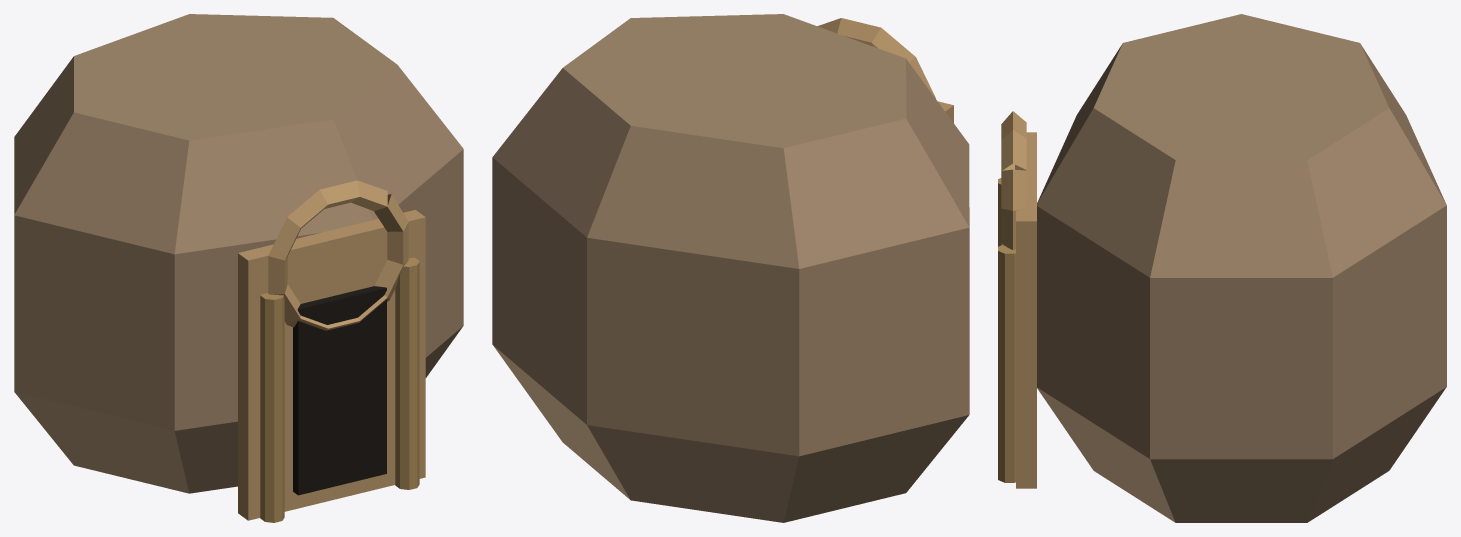
Rendered from cat_house_b.glb.
3 renders of one model, left to right at view 1: azimuth 30°, elevation 25°; view 2: azimuth 150°, elevation 25°; view 3: azimuth 270°, elevation 25°, orthographic. The views are drawn at different scales.
Parts seen in each view (by area): view 1: cat_house_b; view 2: cat_house_b; view 3: cat_house_b.
Boxes of the visible parts, x1=… form: cat_house_b: x1=14, y1=14, x2=463, y2=522; cat_house_b: x1=492, y1=14, x2=969, y2=522; cat_house_b: x1=998, y1=14, x2=1446, y2=522.
Size of the model in its own units: 2.28 by 1.9 by 2.13.
